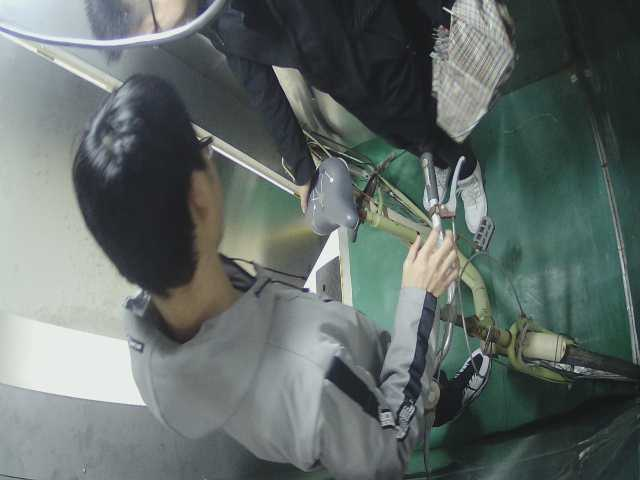bicycle: (267, 109, 632, 405)
person: (89, 95, 484, 454), (101, 1, 499, 233)
